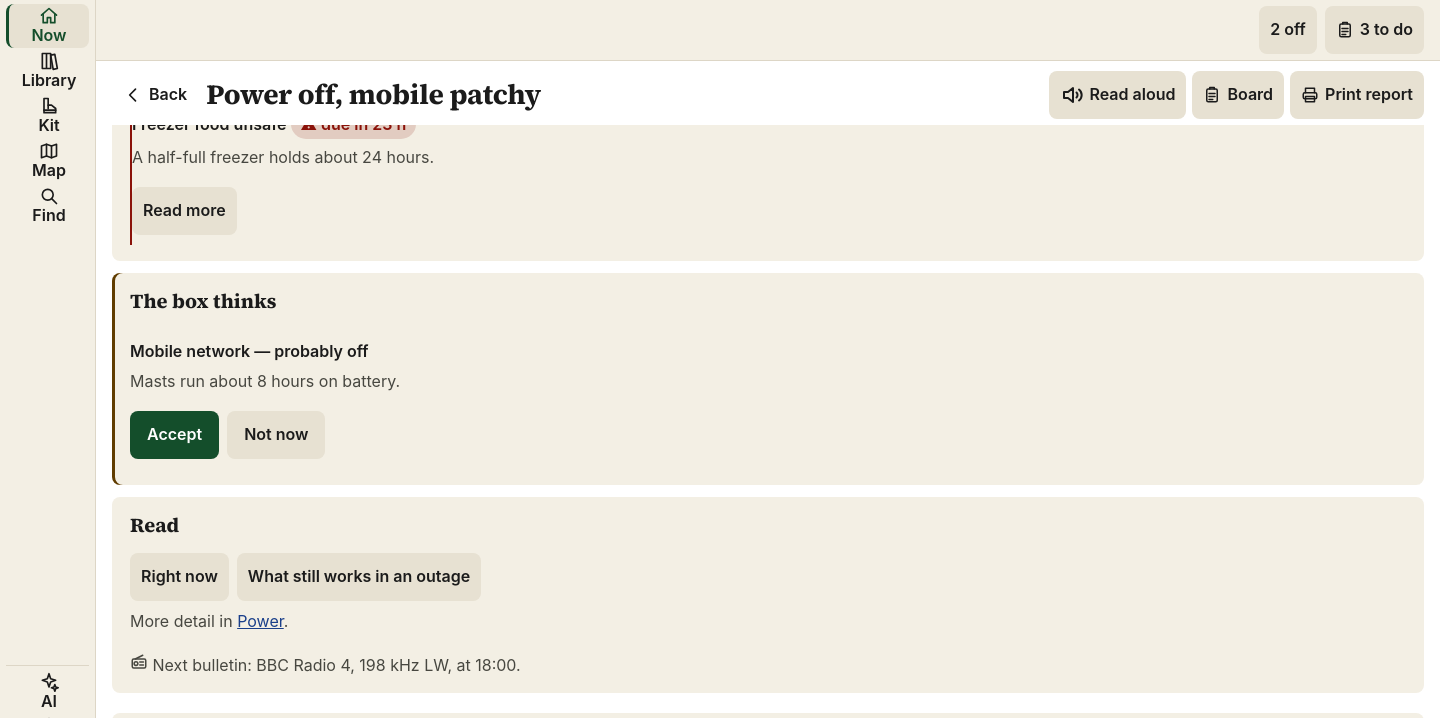
Test: the sheet: the briefing › offers the box's guess with Accept and Not now
(page scrolled)
Expected: the element "The box thinks" shows "Mobile network — probably off", [112,273,1424,485]
Expected: the element "The box thinks" shows "Masts run about 8 hours on battery.", [130,371,400,391]
Click the button "Accept".
click(175, 435)  # box [130,411,219,459]
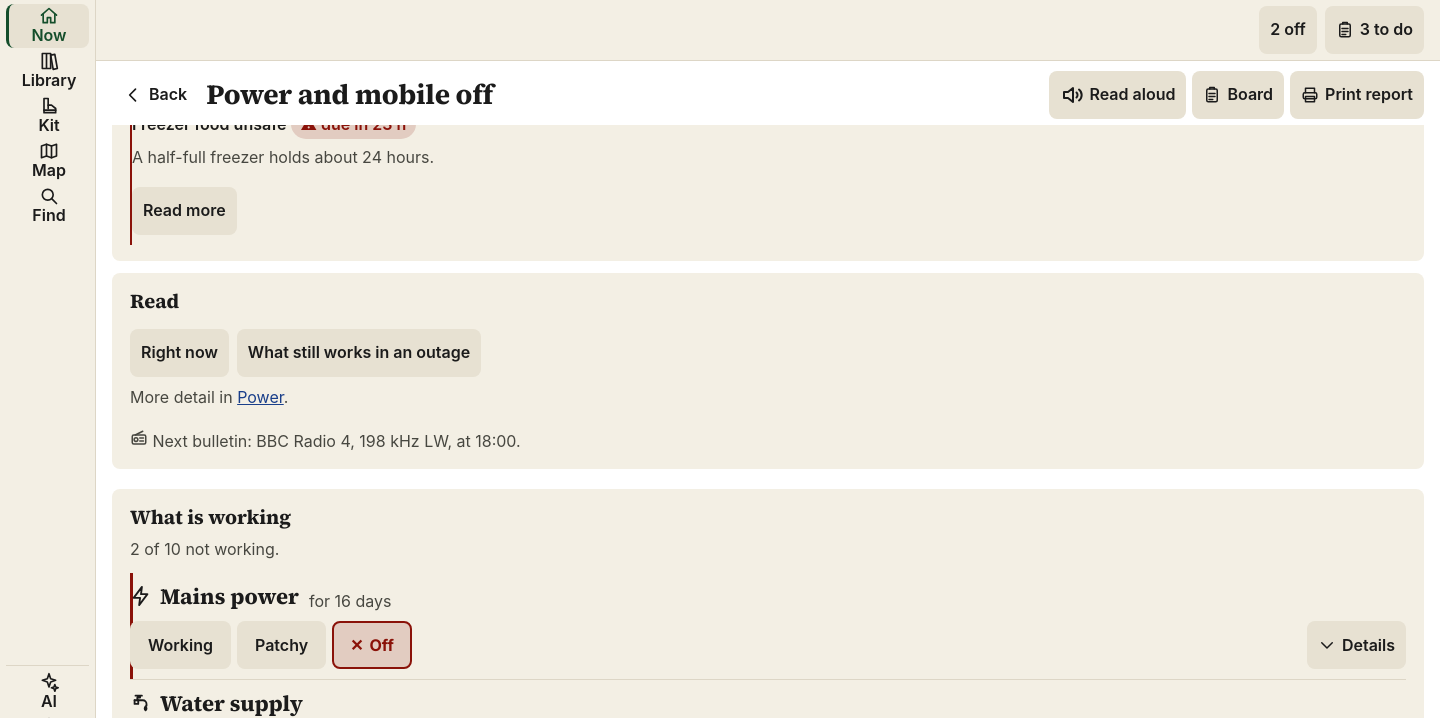
Now the heading "The box thinks" is gone
